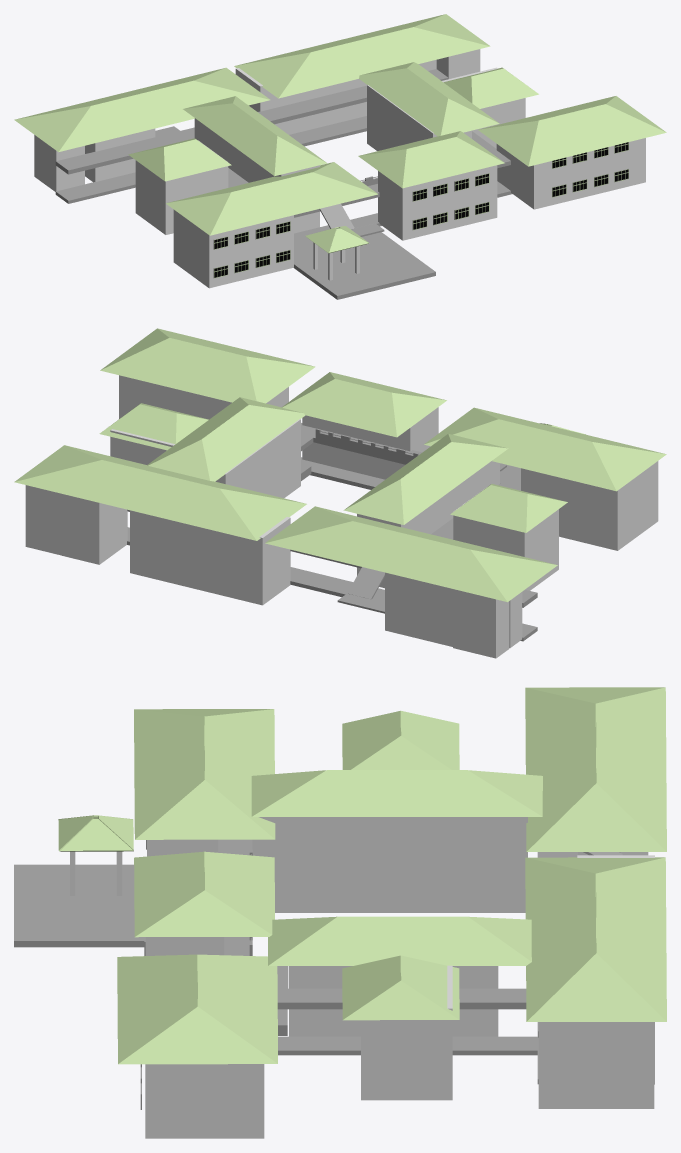
The model's file is faculty.fbx.
3 renders of one model, top to bottom at view 1: azimuth 30°, elevation 25°; view 2: azimuth 150°, elevation 25°; view 3: azimuth 270°, elevation 25°, orthographic. The views are drawn at different scales.
Visible parts, largest first — view 1: pPlane6, pPlane5, Quarters:securitymain:pPlane3, pPlane4, pCube12, pCube8, pCube39, pCube13, pPlane10, pPlane9, pPlane3, pCube33 (+15 smaller); view 2: pPlane5, pPlane6, pCube11, pPlane4, Quarters:securitymain:pPlane3, pCube12, pPlane9, pPlane10, pPlane3, pCube13, pCube10, pCube15 (+17 smaller); view 3: pCube19, pPlane6, pPlane5, Quarters:securitymain:pPlane3, pPlane4, pPlane9, pPlane10, pPlane3, pCube16, pCube39, pCube8, pCube14 (+10 smaller).
Part boxes in pixels (x1=…): pPlane6: x1=234, y1=14, x2=490, y2=98; pPlane5: x1=14, y1=67, x2=270, y2=152; Quarters:securitymain:pPlane3: x1=166, y1=162, x2=377, y2=235; pPlane4: x1=478, y1=96, x2=666, y2=166; pCube12: x1=173, y1=209, x2=293, y2=288; pCube8: x1=496, y1=138, x2=645, y2=209; pCube39: x1=294, y1=232, x2=435, y2=299; pCube13: x1=378, y1=165, x2=497, y2=240; pPlane10: x1=359, y1=62, x2=499, y2=136; pPlane9: x1=183, y1=96, x2=326, y2=176; pPlane3: x1=358, y1=131, x2=504, y2=188; pCube33: x1=55, y1=69, x2=448, y2=174; pPlane5: x1=265, y1=506, x2=557, y2=602; pPlane6: x1=14, y1=445, x2=306, y2=540; pCube11: x1=130, y1=510, x2=290, y2=605; pPlane4: x1=100, y1=328, x2=315, y2=403; Quarters:securitymain:pPlane3: x1=424, y1=407, x2=666, y2=491; pCube12: x1=521, y1=461, x2=658, y2=550; pPlane9: x1=343, y1=433, x2=508, y2=524; pPlane10: x1=147, y1=397, x2=305, y2=481; pPlane3: x1=282, y1=372, x2=446, y2=437; pCube13: x1=302, y1=407, x2=438, y2=479; pCube10: x1=385, y1=572, x2=452, y2=646; pCube15: x1=61, y1=493, x2=127, y2=564; pCube19: x1=252, y1=817, x2=527, y2=912; pPlane6: x1=525, y1=857, x2=666, y2=1021; pPlane5: x1=525, y1=687, x2=666, y2=851; Quarters:securitymain:pPlane3: x1=134, y1=709, x2=275, y2=839; pPlane4: x1=117, y1=954, x2=277, y2=1064; pPlane9: x1=251, y1=770, x2=542, y2=816; pPlane10: x1=268, y1=916, x2=531, y2=965; pPlane3: x1=134, y1=851, x2=274, y2=937; pCube16: x1=538, y1=1022, x2=654, y2=1108; pCube39: x1=14, y1=864, x2=144, y2=947; pCube8: x1=145, y1=1064, x2=264, y2=1138; pCube14: x1=361, y1=965, x2=452, y2=1100.
Size of the model in its own units: 1292 by 213 by 960.
